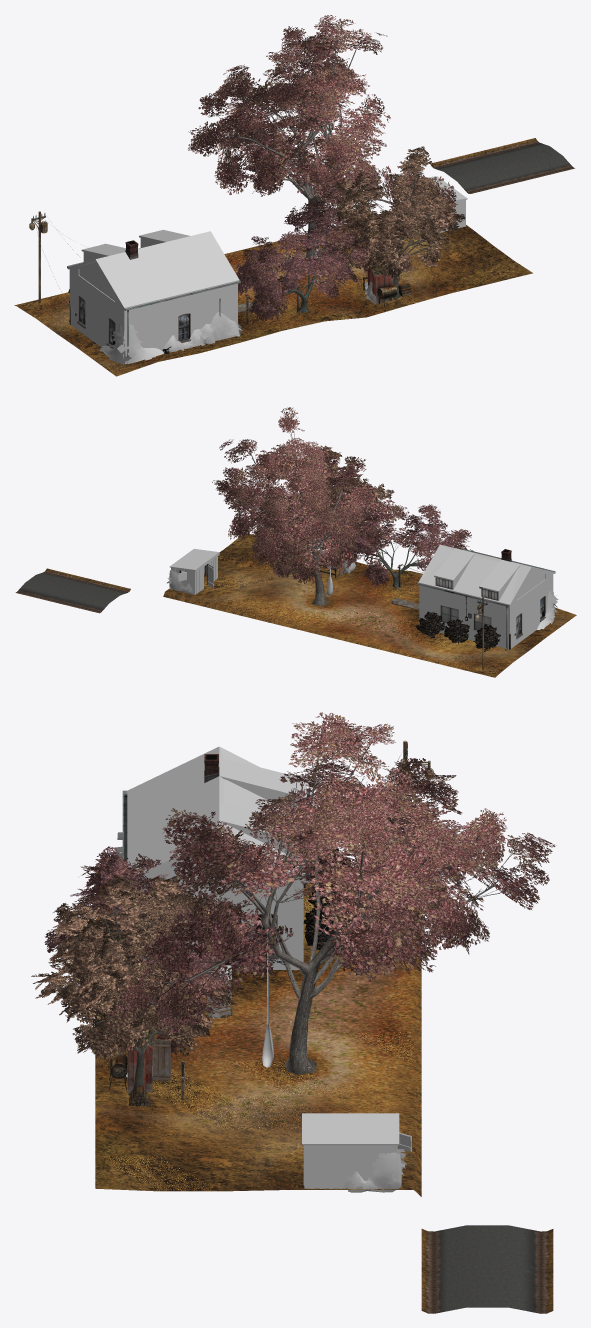
3 renders of one model, top to bottom at view 1: azimuth 30°, elevation 25°; view 2: azimuth 150°, elevation 25°; view 3: azimuth 270°, elevation 25°, orthographic. The views are drawn at different scales.
Parts seen in each view (by area): view 1: Leaves_2 (×3), Leaves_1 (×3), Exterior, polySurface391, polySurface489, polySurface485, polySurface487, polySurface480, TreeJM, polySurface492, Deco, Ivy_House (+9 smaller); view 2: Leaves_1 (×3), Leaves_2 (×3), Exterior, polySurface391, polySurface496, polySurface494, Deco, polySurface492, polySurface485, polySurface507, polySurface501, polySurface505 (+11 smaller); view 3: Leaves_1 (×3), Leaves_2 (×3), Exterior, polySurface391, polySurface489, polySurface494, Building (×2), polySurface496, polySurface487, TreeJM, polySurface492, polySurface505 (+11 smaller).
Part boxes in pixels (x1,y1,x2,y2): Leaves_2 (×3): [188, 18, 465, 319]; Leaves_1 (×3): [188, 15, 462, 321]; Exterior: [68, 229, 239, 350]; polySurface391: [430, 138, 574, 193]; polySurface489: [411, 245, 532, 293]; polySurface485: [248, 288, 365, 330]; polySurface487: [329, 270, 449, 317]; polySurface480: [99, 284, 375, 364]; TreeJM: [229, 25, 401, 268]; polySurface492: [398, 225, 492, 267]; Deco: [67, 240, 240, 364]; Ivy_House: [103, 311, 240, 364]; Leaves_1 (×3): [212, 414, 473, 583]; Leaves_2 (×3): [218, 407, 469, 586]; Exterior: [418, 544, 554, 649]; polySurface391: [15, 568, 130, 613]; polySurface496: [314, 590, 409, 631]; polySurface494: [248, 576, 345, 612]; Deco: [417, 549, 555, 650]; polySurface492: [204, 559, 278, 596]; polySurface485: [346, 569, 422, 602]; polySurface507: [230, 597, 313, 628]; polySurface501: [429, 647, 512, 677]; polySurface505: [296, 613, 379, 645]; Leaves_1 (×3): [33, 712, 556, 1055]; Leaves_2 (×3): [31, 714, 549, 1059]; Exterior: [127, 746, 306, 980]; polySurface391: [421, 1225, 553, 1313]; polySurface489: [95, 1123, 222, 1191]; polySurface494: [223, 1061, 350, 1130]; Building (×2): [126, 1028, 399, 1188]; polySurface496: [223, 996, 350, 1061]; polySurface487: [95, 1061, 222, 1130]; TreeJM: [154, 729, 493, 1074]; polySurface492: [223, 1129, 350, 1191]; polySurface505: [350, 999, 421, 1067].
Bounding box in the file's own units: 90.58 × 37 × 46.67.
